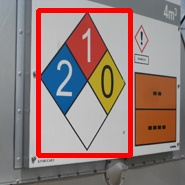nfpa: (38, 10, 130, 155)
